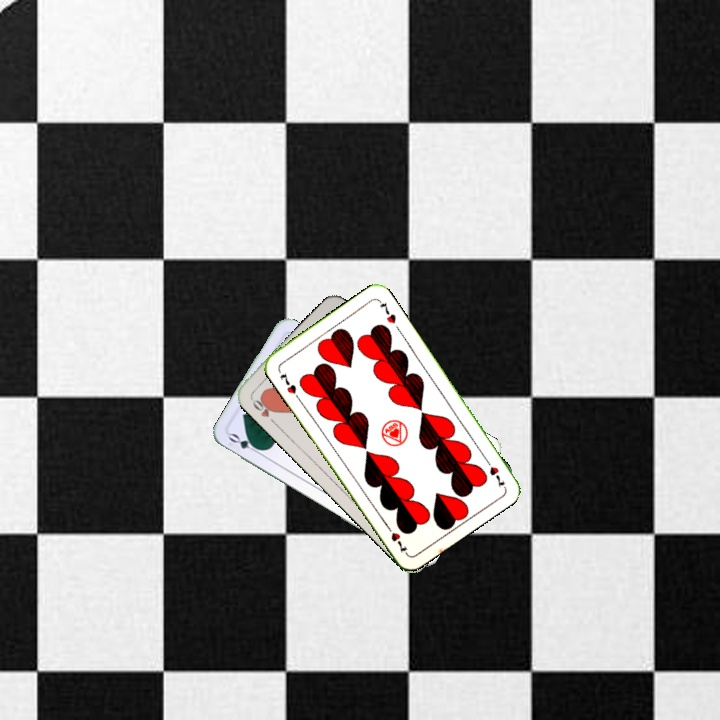GO: (224, 429, 264, 457)
H7: (480, 453, 508, 490), (276, 369, 299, 397)
HO: (247, 393, 278, 427)
